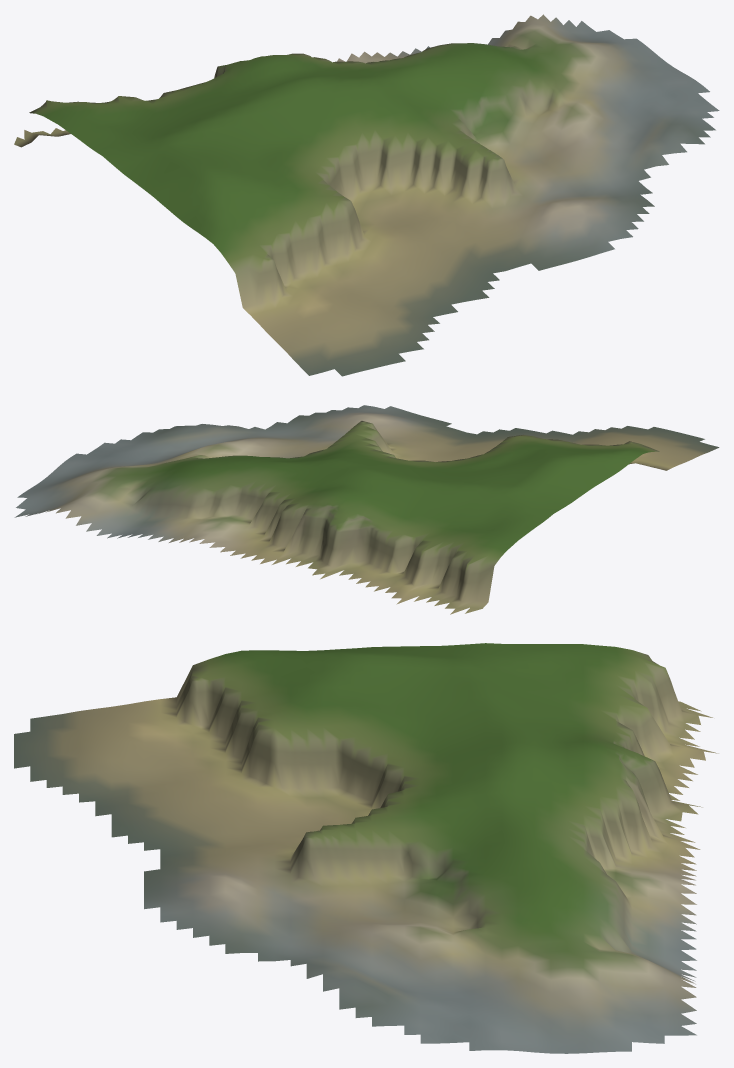
Rendered from coast_tile_x2z2.glb.
3 renders of one model, top to bottom at view 1: azimuth 30°, elevation 25°; view 2: azimuth 150°, elevation 25°; view 3: azimuth 270°, elevation 25°, orthographic. The views are drawn at different scales.
Parts seen in each view (by area): view 1: coast_tile_x2z2; view 2: coast_tile_x2z2; view 3: coast_tile_x2z2.
Part boxes in pixels (left/top/right/bottom): coast_tile_x2z2: left=14, top=14, right=719, bottom=376; coast_tile_x2z2: left=14, top=405, right=719, bottom=614; coast_tile_x2z2: left=14, top=643, right=718, bottom=1053.
Size of the model in its own units: 282 by 41.59 by 260.
